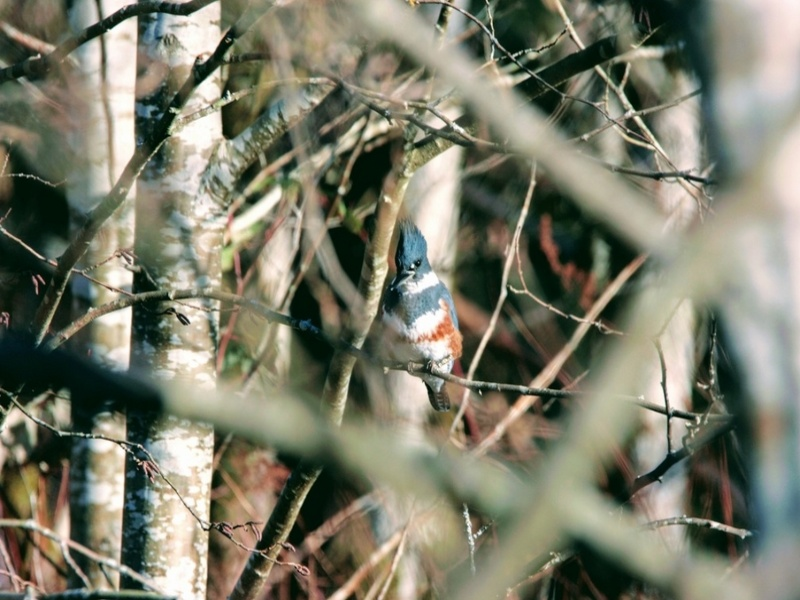kingfisher: (380, 220, 465, 414)
